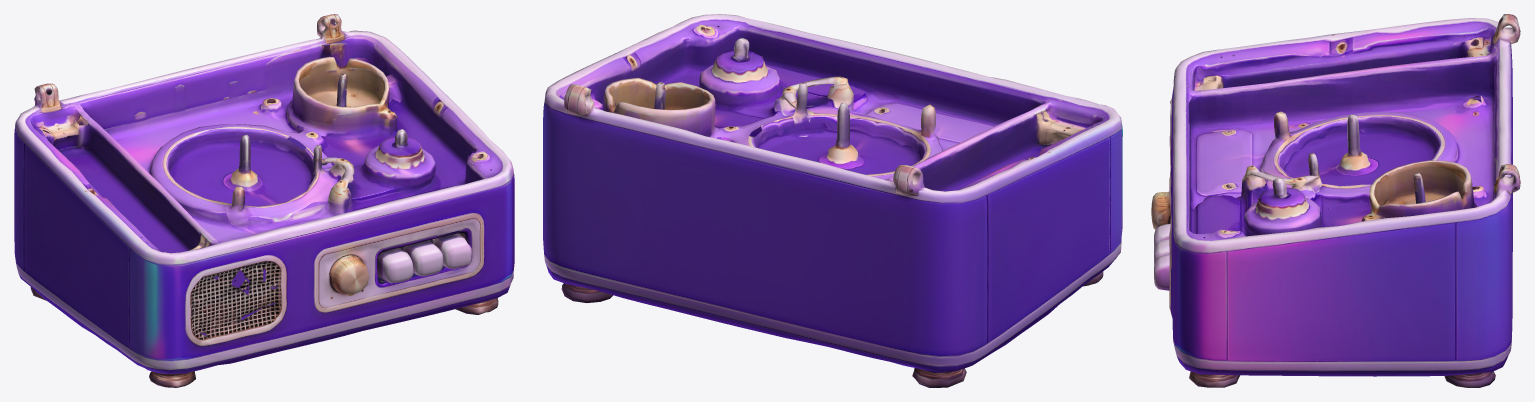
File: tripo_convert_f5eeb618-fca3-4537-bff1-91183de227b6.fbx
3 renders of one model, left to right at view 1: azimuth 30°, elevation 25°; view 2: azimuth 150°, elevation 25°; view 3: azimuth 270°, elevation 25°, orthographic. The views are drawn at different scales.
Visible parts, largest first — view 1: tripo_node_f5eeb618; view 2: tripo_node_f5eeb618; view 3: tripo_node_f5eeb618.
Part boxes in pixels (x1=…): tripo_node_f5eeb618: x1=14, y1=14, x2=514, y2=387; tripo_node_f5eeb618: x1=543, y1=14, x2=1122, y2=387; tripo_node_f5eeb618: x1=1151, y1=14, x2=1520, y2=387.
Size of the model in its own units: 0.9785 by 0.4783 by 0.7701.
1 material, 1 textured.
